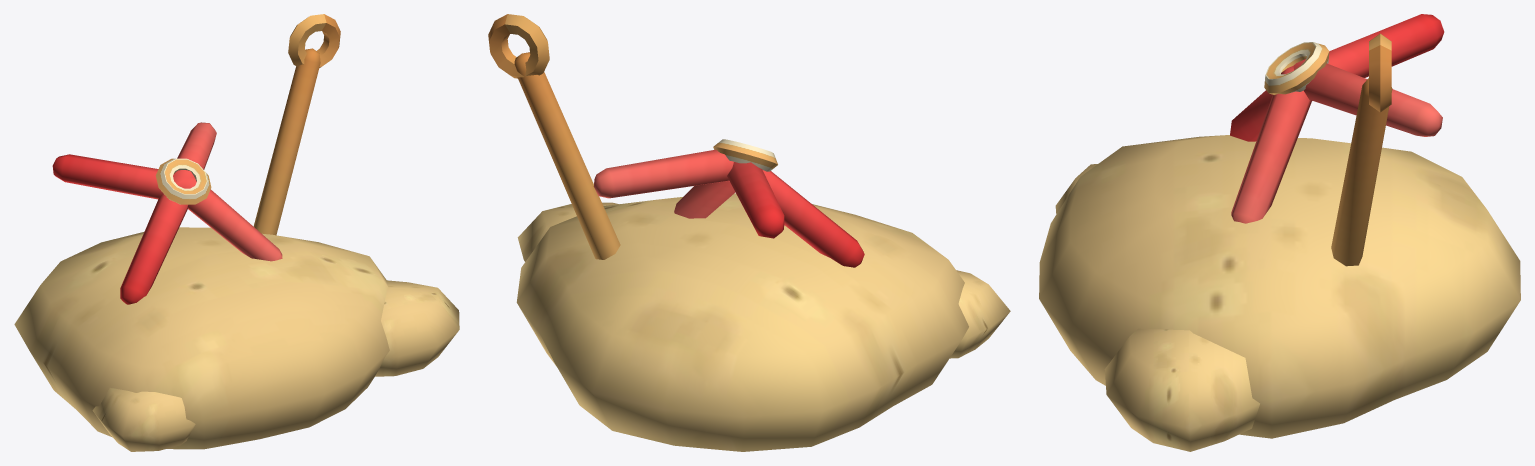
File: dig_mark.glb
3 renders of one model, left to right at view 1: azimuth 30°, elevation 25°; view 2: azimuth 150°, elevation 25°; view 3: azimuth 270°, elevation 25°, orthographic. The views are drawn at different scales.
Parts seen in each view (by area): view 1: dig_mark; view 2: dig_mark; view 3: dig_mark.
Part boxes in pixels (bbox=[...]): dig_mark: bbox=[14, 14, 459, 451]; dig_mark: bbox=[488, 14, 1010, 451]; dig_mark: bbox=[1039, 14, 1520, 451].
Bounding box in the file's own units: 2.43 × 2.06 × 2.01.
Materials: 2 (2 with a texture image).
